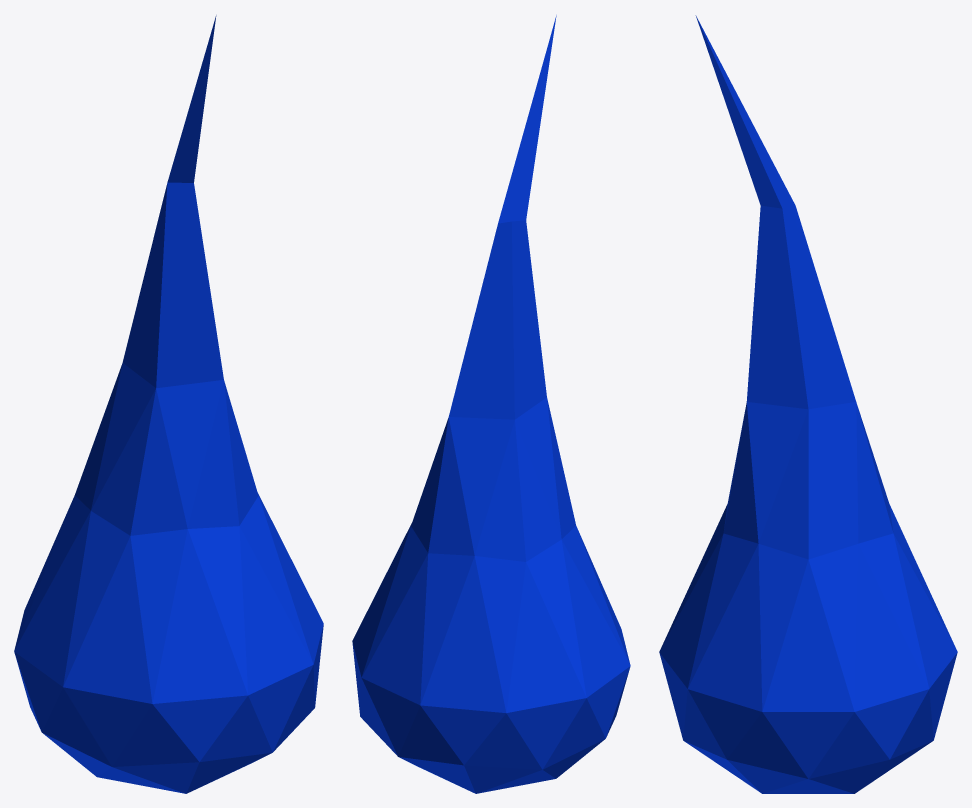
File: teardrop.fbx
3 renders of one model, left to right at view 1: azimuth 30°, elevation 25°; view 2: azimuth 150°, elevation 25°; view 3: azimuth 270°, elevation 25°, orthographic. The views are drawn at different scales.
Visible parts, largest first — view 1: Icosphere; view 2: Icosphere; view 3: Icosphere.
Part boxes in pixels (<box>): Icosphere: <box>14,15,323,793</box>; Icosphere: <box>352,15,630,793</box>; Icosphere: <box>659,15,957,793</box>.
Size of the model in its own units: 190 by 567 by 200.
